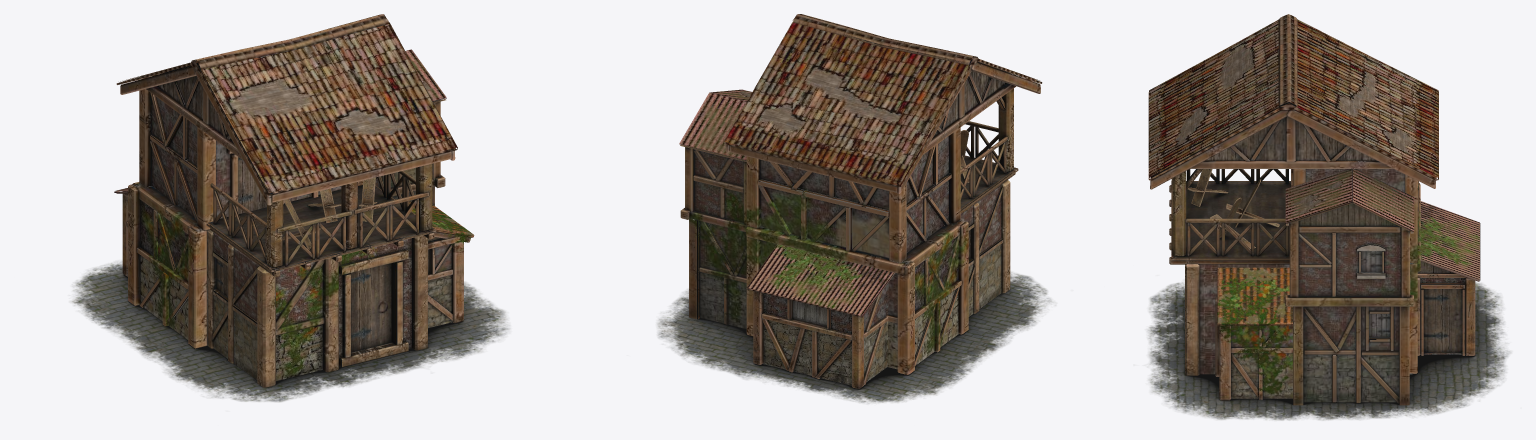
File: barracks.glb
3 renders of one model, left to right at view 1: azimuth 30°, elevation 25°; view 2: azimuth 150°, elevation 25°; view 3: azimuth 270°, elevation 25°, orthographic. The views are drawn at different scales.
Visible parts, largest first — view 1: defaultMaterial.001, defaultMaterial.008, defaultMaterial.004, defaultMaterial, defaultMaterial.006, defaultMaterial.007, defaultMaterial.005, defaultMaterial.003, defaultMaterial.002; view 2: defaultMaterial.001, defaultMaterial.004, defaultMaterial.002, defaultMaterial, defaultMaterial.005, defaultMaterial.008, defaultMaterial.006; view 3: defaultMaterial.001, defaultMaterial.005, defaultMaterial, defaultMaterial.007, defaultMaterial.006, defaultMaterial.002, defaultMaterial.008, defaultMaterial.004, defaultMaterial.003.
Boxes of the visible parts, x1,y1,x2,y2 form: defaultMaterial.001: (116,14,457,205); defaultMaterial.008: (207,229,427,387); defaultMaterial.004: (128,89,363,348); defaultMaterial: (71,261,509,401); defaultMaterial.006: (206,164,436,277); defaultMaterial.007: (395,199,474,327); defaultMaterial.005: (375,49,446,205); defaultMaterial.003: (283,177,377,249); defaultMaterial.002: (114,188,127,276); defaultMaterial.001: (723,14,1042,193); defaultMaterial.004: (746,127,968,374); defaultMaterial.002: (746,244,894,388); defaultMaterial: (657,272,1052,403); defaultMaterial.005: (679,89,751,328); defaultMaterial.008: (960,180,1010,316); defaultMaterial.006: (960,88,1018,213); defaultMaterial.001: (1148,14,1438,189); defaultMaterial.005: (1285,168,1414,405); defaultMaterial: (1147,282,1510,420); defaultMaterial.007: (1215,267,1293,400); defaultMaterial.006: (1169,169,1290,264); defaultMaterial.002: (1417,201,1480,355); defaultMaterial.008: (1185,263,1289,375); defaultMaterial.004: (1291,169,1420,374); defaultMaterial.003: (1187,169,1279,248).
Bounding box in the file's own units: 4.31 × 3.5 × 4.4.
Materials: 9 (9 with a texture image).
